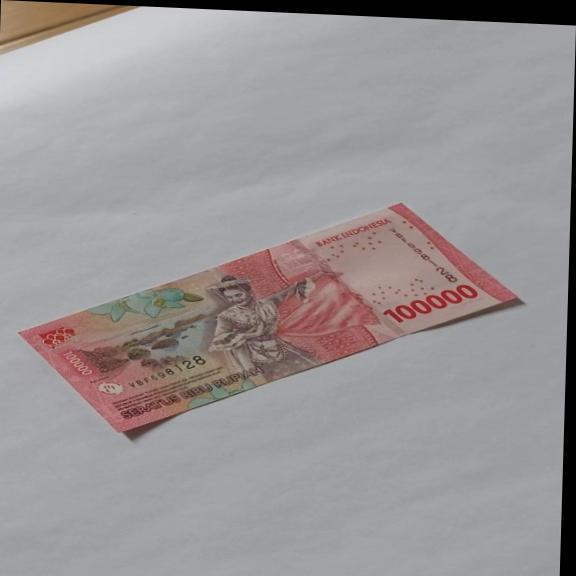Kertas: (14, 185, 526, 452), (380, 280, 480, 327)
